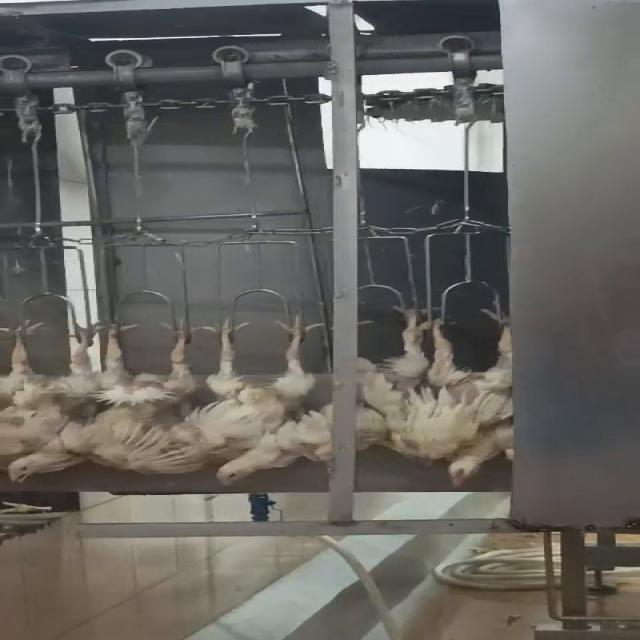chicken: (194, 314, 320, 472), (0, 316, 107, 486), (422, 296, 509, 490), (94, 317, 198, 478), (212, 399, 338, 491), (361, 301, 429, 459)
